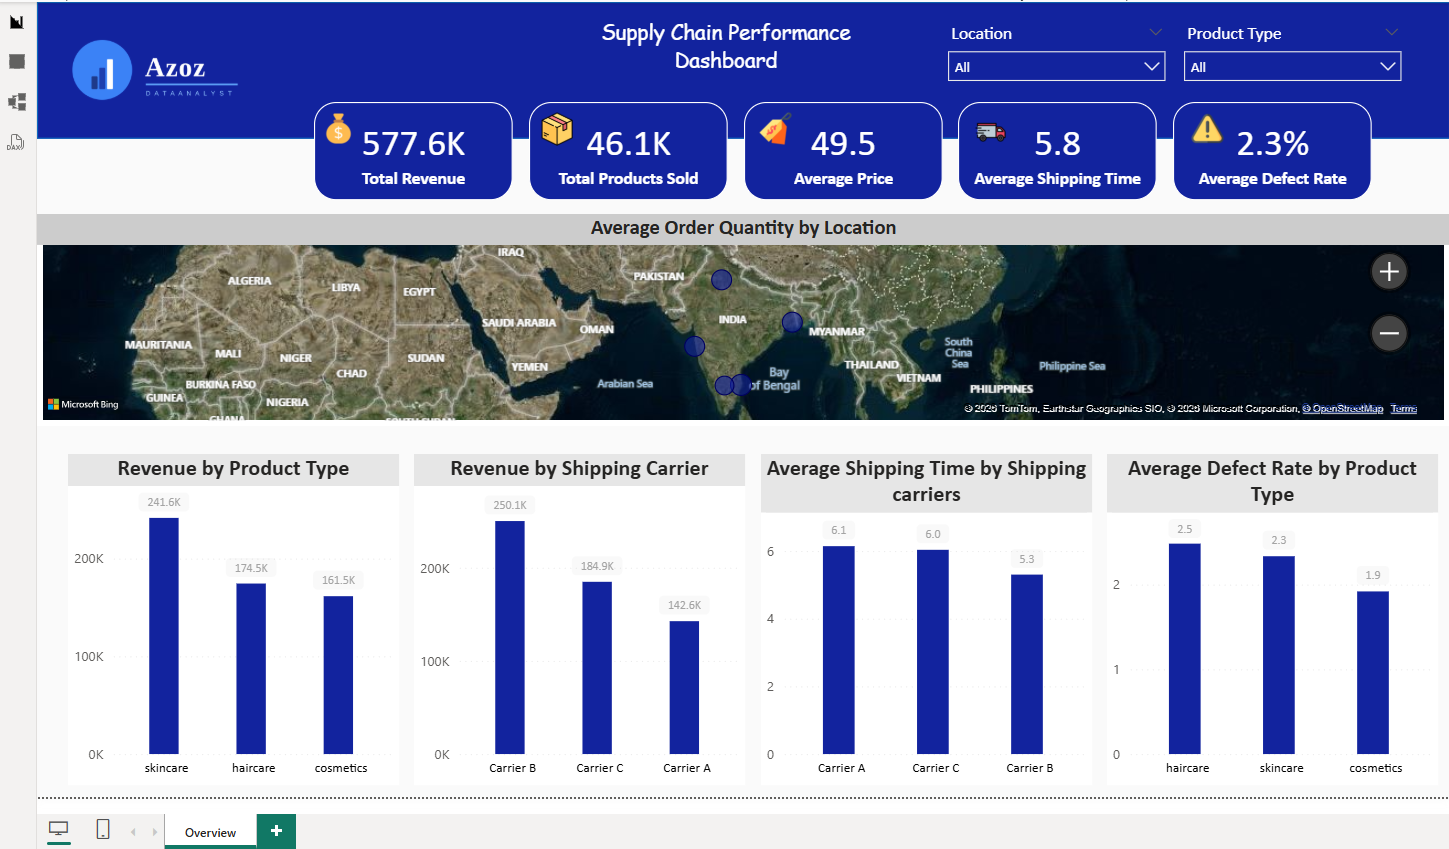

What the dashboard file says about the page in this screenshot:
{"tool":"powerbi","page":{"name":"Overview","canvas":[1280,720],"ordinal":0},"visuals":[{"type":"shape","box":[0,0,1280,123.9],"z":0},{"type":"clusteredColumnChart","title":"Revenue by Product Type","fields":{"Category":["Supply_Chanin_Backup.Product_type"],"Y":["Supply_Chanin_Backup.Total Revenue"]},"box":[27.8,409.3,299.8,299.8],"z":1000},{"type":"image","box":[0,0,272.9,123.9],"z":2000},{"type":"slicer","fields":{"Values":["Supply_Chanin_Backup.Product_type"]},"box":[1028.7,13.5,217.2,62.8],"z":3000},{"type":"clusteredColumnChart","title":"Revenue by Shipping Carrier","fields":{"Category":["Supply_Chanin_Backup.Shipping_carriers"],"Y":["Supply_Chanin_Backup.Total Revenue"]},"box":[341.7,409.3,299.8,299.8],"z":4000},{"type":"clusteredColumnChart","title":"Average Shipping Time by Shipping carriers","fields":{"Category":["Supply_Chanin_Backup.Shipping_carriers"],"Y":["Supply_Chanin_Backup.Average Shipping Time"]},"box":[655.6,409.3,299.8,299.8],"z":5000},{"type":"clusteredColumnChart","title":"Average Defect Rate by Product Type","fields":{"Category":["Supply_Chanin_Backup.Product_type"],"Y":["Supply_Chanin_Backup.Average Defect Rate"]},"box":[969.4,409.3,299.8,299.8],"z":6000},{"type":"map","title":"Average Order Quantity by Location","fields":{"Category":["Supply_Chanin_Backup.Location"],"Size":["Avg(Supply_Chanin_Backup.Order_quantities)"]},"box":[0,192,1280,192],"z":7000},{"type":"slicer","fields":{"Values":["Supply_Chanin_Backup.Location"]},"box":[815,13.5,217.2,62.8],"z":8000},{"type":"card","fields":{"Values":["Supply_Chanin_Backup.Average Defect Rate (%)"]},"box":[1028.7,90.7,180.4,88.9],"z":9000},{"type":"card","fields":{"Values":["Supply_Chanin_Backup.Average Price"]},"box":[640,90.7,180.4,88.9],"z":10000},{"type":"card","fields":{"Values":["Supply_Chanin_Backup.Total Products Sold"]},"box":[445.7,90.7,180.4,88.9],"z":11000},{"type":"card","fields":{"Values":["Supply_Chanin_Backup.Total Revenue"]},"box":[251.3,90.7,180.4,88.9],"z":12000},{"type":"card","fields":{"Values":["Supply_Chanin_Backup.Average Shipping Time"]},"box":[834.3,90.7,180.4,88.9],"z":13000},{"type":"textbox","box":[480,8,288,64],"z":14000},{"type":"image","box":[451.3,94.9,40.3,40.3],"z":15000},{"type":"image","box":[253.4,94.9,39.4,39.4],"z":16000},{"type":"image","box":[649.3,94.9,39.4,39.4],"z":17000},{"type":"image","box":[844.5,94.9,39.4,39.4],"z":18000},{"type":"image","box":[1040.6,94.9,39.4,39.4],"z":19000}]}

Visuals, with their boxes on the page's 1280x720 design canvas (x1, y1, x2, y2). These are canvas units, not pixel positions in the 1449x849 screenshot, which may show the page scaled, cropped or inside an application window:
shape: box=[0, 0, 1280, 124]
"Revenue by Product Type" clusteredColumnChart: box=[28, 409, 328, 709]
image: box=[0, 0, 273, 124]
slicer - Supply_Chanin_Backup.Product_type: box=[1029, 14, 1246, 76]
"Revenue by Shipping Carrier" clusteredColumnChart: box=[342, 409, 642, 709]
"Average Shipping Time by Shipping carriers" clusteredColumnChart: box=[656, 409, 955, 709]
"Average Defect Rate by Product Type" clusteredColumnChart: box=[969, 409, 1269, 709]
"Average Order Quantity by Location" map: box=[0, 192, 1280, 384]
slicer - Supply_Chanin_Backup.Location: box=[815, 14, 1032, 76]
card - Supply_Chanin_Backup.Average Defect Rate (%): box=[1029, 91, 1209, 180]
card - Supply_Chanin_Backup.Average Price: box=[640, 91, 820, 180]
card - Supply_Chanin_Backup.Total Products Sold: box=[446, 91, 626, 180]
card - Supply_Chanin_Backup.Total Revenue: box=[251, 91, 432, 180]
card - Supply_Chanin_Backup.Average Shipping Time: box=[834, 91, 1015, 180]
textbox: box=[480, 8, 768, 72]
image: box=[451, 95, 492, 135]
image: box=[253, 95, 293, 134]
image: box=[649, 95, 689, 134]
image: box=[844, 95, 884, 134]
image: box=[1041, 95, 1080, 134]
